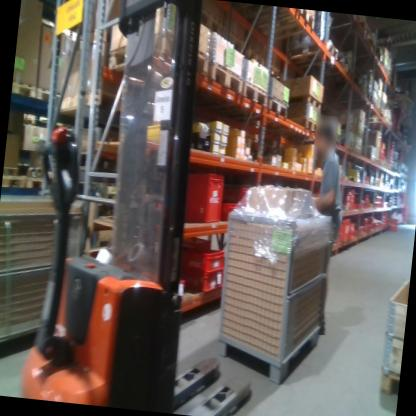pallet: (106, 23, 215, 82), (208, 61, 245, 94), (240, 79, 269, 107), (376, 367, 400, 398), (11, 78, 39, 98), (265, 97, 290, 119), (1, 172, 28, 191), (297, 91, 323, 110), (295, 8, 317, 29), (298, 116, 320, 133), (36, 89, 54, 102), (331, 134, 342, 144), (352, 146, 362, 155), (355, 129, 364, 138), (371, 98, 377, 107)
pallet_truck: (9, 0, 295, 416)
small_load_carrier: (178, 167, 227, 227), (178, 265, 225, 295), (184, 242, 227, 274), (179, 234, 210, 260), (225, 181, 254, 204), (218, 198, 241, 224), (335, 218, 352, 244), (387, 216, 397, 233), (348, 229, 357, 241), (348, 221, 355, 231)
stillage: (206, 172, 337, 385), (0, 183, 95, 368)
